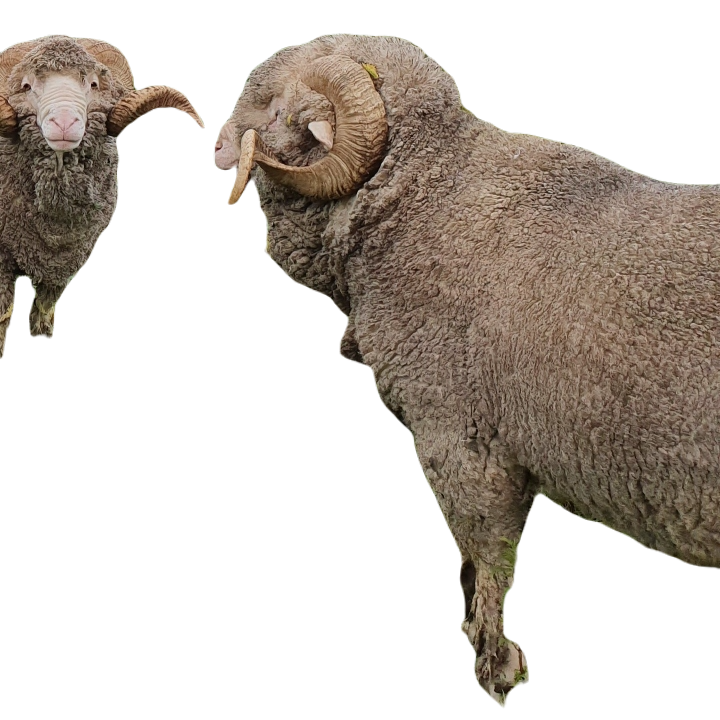Sheep: (213, 30, 719, 719), (0, 28, 205, 377)
